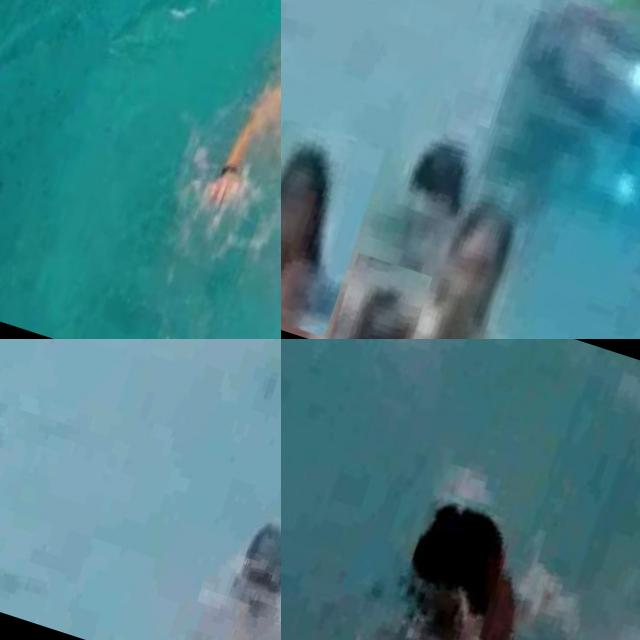drowning: (304, 447, 623, 640), (187, 22, 281, 276), (374, 128, 481, 262)
swimming: (281, 119, 384, 339), (415, 189, 538, 339), (169, 503, 281, 640), (328, 252, 433, 339)
